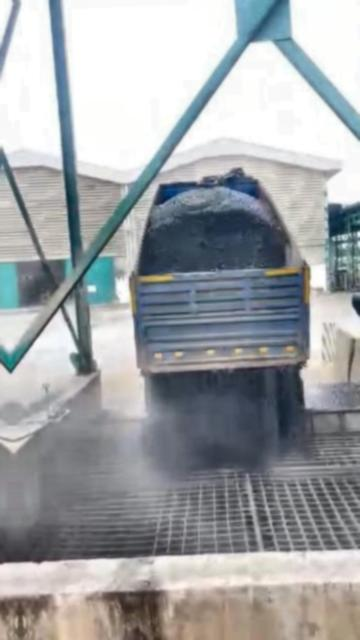gravel: (145, 365, 304, 464), (141, 186, 290, 275), (306, 382, 360, 410)
